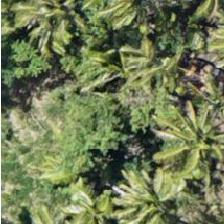coconut_tree: (109, 29, 199, 119), (143, 96, 223, 186), (107, 145, 197, 223)
